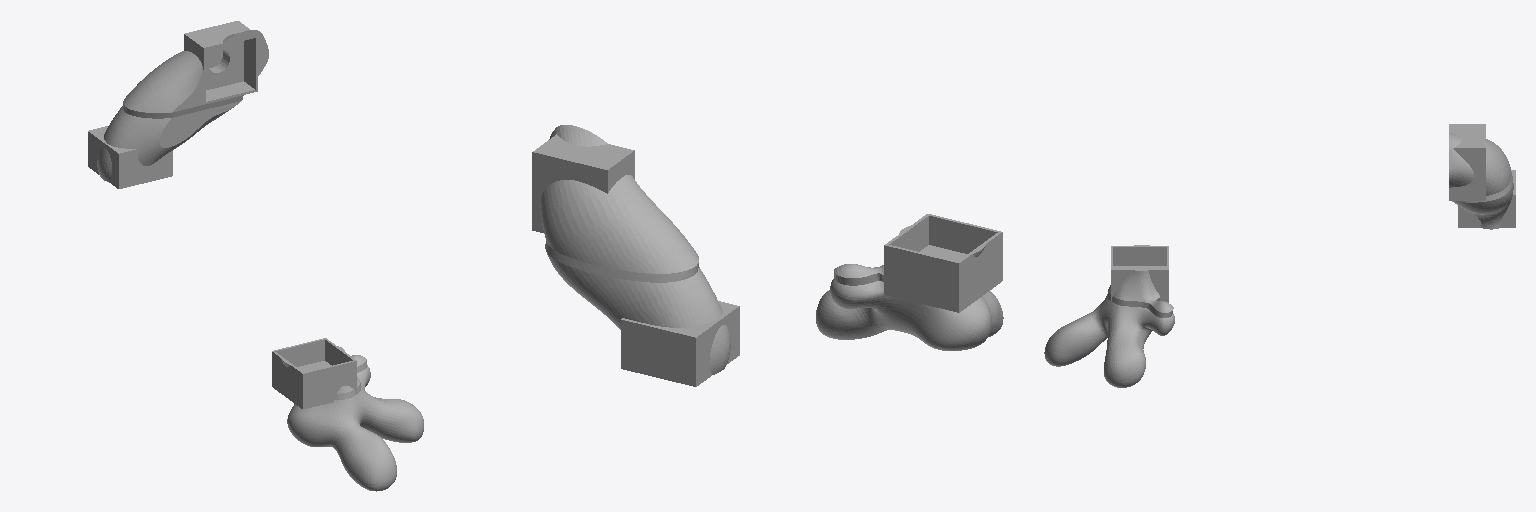
robot.urdf — FrogBot2_top-FrogBot2-z-1_bottom-FrogBot2-z-1:
<?xml version="1.0" ?>
<robot name="FrogBot2_top-FrogBot2-z-1_bottom-FrogBot2-z-1">

<material name="pla_5_percent_infill">
  <color rgba="0.700 0.700 0.700 1.000"/>
</material>

<link name="base_link">
  <inertial>
    <origin xyz="0 0 0" rpy="0 0 0"/>
    <mass value="1.3341577719423"/>
    <inertia ixx="0.0046797925109551535" iyy="0.011134478382956134" izz="0.010477176548232365" ixy="0.00012495104989682066" iyz="8.213962567094231e-05" ixz="-0.002474445058077273"/>
  </inertial>
  <visual>
    <origin xyz="0 0 0" rpy="0 0 0"/>
    <geometry>
      <mesh filename="simple_meshes/base_link.stl" scale="0.001 0.001 0.001"/>
    </geometry>
    <material name="pla_5_percent_infill"/>
  </visual>
  <collision>
    <origin xyz="0 0 0" rpy="0 0 0"/>
    <geometry>
      <mesh filename="simple_meshes/base_link.stl" scale="0.001 0.001 0.001"/>
    </geometry>
  </collision>
</link>

<link name="body_1_0_1">
  <inertial>
    <origin xyz="-0.053395 -0.09218 -0.023663" rpy="0 0 0"/>
    <mass value="0.05181755231490285"/>
    <inertia ixx="6.536903898336755e-05" iyy="6.881191573337948e-05" izz="1.7987144878947288e-05" ixy="-3.238768744947174e-07" iyz="4.588672547667545e-06" ixz="7.609197508524172e-06"/>
  </inertial>
  <visual>
    <origin xyz="-0.053395 -0.09218 -0.023663" rpy="0 0 0"/>
    <geometry>
      <mesh filename="simple_meshes/body_1_0_1.stl" scale="0.001 0.001 0.001"/>
    </geometry>
    <material name="pla_5_percent_infill"/>
  </visual>
  <collision>
    <origin xyz="-0.053395 -0.09218 -0.023663" rpy="0 0 0"/>
    <geometry>
      <mesh filename="simple_meshes/body_1_0_1.stl" scale="0.001 0.001 0.001"/>
    </geometry>
  </collision>
</link>

<link name="body_1_1_1">
  <inertial>
    <origin xyz="0.095032 -0.09218 0.005345" rpy="0 0 0"/>
    <mass value="0.0973469749886884"/>
    <inertia ixx="6.551925439724935e-05" iyy="0.00012844904834882482" izz="9.773491841719465e-05" ixy="4.534690595487095e-06" iyz="4.8709986384486e-06" ixz="-3.705166144969896e-05"/>
  </inertial>
  <visual>
    <origin xyz="0.095032 -0.09218 0.005345" rpy="0 0 0"/>
    <geometry>
      <mesh filename="simple_meshes/body_1_1_1.stl" scale="0.001 0.001 0.001"/>
    </geometry>
    <material name="pla_5_percent_infill"/>
  </visual>
  <collision>
    <origin xyz="0.095032 -0.09218 0.005345" rpy="0 0 0"/>
    <geometry>
      <mesh filename="simple_meshes/body_1_1_1.stl" scale="0.001 0.001 0.001"/>
    </geometry>
  </collision>
</link>

<link name="body_1_2_1">
  <inertial>
    <origin xyz="-0.041549 0.09218 -0.043945" rpy="0 0 0"/>
    <mass value="0.06101320727934863"/>
    <inertia ixx="0.00011607866512522349" iyy="0.00012146072575761399" izz="2.9115094758221582e-05" ixy="1.6624694795368288e-06" iyz="-1.6749839664340714e-05" ixz="1.8281677202385782e-05"/>
  </inertial>
  <visual>
    <origin xyz="-0.041549 0.09218 -0.043945" rpy="0 0 0"/>
    <geometry>
      <mesh filename="simple_meshes/body_1_2_1.stl" scale="0.001 0.001 0.001"/>
    </geometry>
    <material name="pla_5_percent_infill"/>
  </visual>
  <collision>
    <origin xyz="-0.041549 0.09218 -0.043945" rpy="0 0 0"/>
    <geometry>
      <mesh filename="simple_meshes/body_1_2_1.stl" scale="0.001 0.001 0.001"/>
    </geometry>
  </collision>
</link>

<link name="body_1_3_1">
  <inertial>
    <origin xyz="0.087142 0.09218 -0.003397" rpy="0 0 0"/>
    <mass value="0.0995550214806045"/>
    <inertia ixx="6.751085734349894e-05" iyy="0.00012894071686629324" izz="9.789317376424512e-05" ixy="-7.184023345715692e-06" iyz="-4.93085847283871e-06" ixz="-3.7240310838770375e-05"/>
  </inertial>
  <visual>
    <origin xyz="0.087142 0.09218 -0.003397" rpy="0 0 0"/>
    <geometry>
      <mesh filename="simple_meshes/body_1_3_1.stl" scale="0.001 0.001 0.001"/>
    </geometry>
    <material name="pla_5_percent_infill"/>
  </visual>
  <collision>
    <origin xyz="0.087142 0.09218 -0.003397" rpy="0 0 0"/>
    <geometry>
      <mesh filename="simple_meshes/body_1_3_1.stl" scale="0.001 0.001 0.001"/>
    </geometry>
  </collision>
</link>

<link name="body_2_0_1">
  <inertial>
    <origin xyz="-0.065654 -0.139685 0.099558" rpy="0 0 0"/>
    <mass value="0.10160186213074929"/>
    <inertia ixx="0.00011010002995882288" iyy="0.00012086272824978102" izz="0.00019059100130232104" ixy="-1.1444704909734961e-05" iyz="6.2105593020074686e-06" ixz="5.1307553116273705e-06"/>
  </inertial>
  <visual>
    <origin xyz="-0.065654 -0.139685 0.099558" rpy="0 0 0"/>
    <geometry>
      <mesh filename="simple_meshes/body_2_0_1.stl" scale="0.001 0.001 0.001"/>
    </geometry>
    <material name="pla_5_percent_infill"/>
  </visual>
  <collision>
    <origin xyz="-0.065654 -0.139685 0.099558" rpy="0 0 0"/>
    <geometry>
      <mesh filename="simple_meshes/body_2_0_1.stl" scale="0.001 0.001 0.001"/>
    </geometry>
  </collision>
</link>

<link name="body_2_1_1">
  <inertial>
    <origin xyz="0.15751 -0.143533 0.099558" rpy="0 0 0"/>
    <mass value="0.08134222741558278"/>
    <inertia ixx="6.452271090579519e-05" iyy="7.97874956739034e-05" izz="9.513706690628251e-05" ixy="-2.973113913482678e-09" iyz="1.75892580950277e-05" ixz="9.697713243010577e-06"/>
  </inertial>
  <visual>
    <origin xyz="0.15751 -0.143533 0.099558" rpy="0 0 0"/>
    <geometry>
      <mesh filename="simple_meshes/body_2_1_1.stl" scale="0.001 0.001 0.001"/>
    </geometry>
    <material name="pla_5_percent_infill"/>
  </visual>
  <collision>
    <origin xyz="0.15751 -0.143533 0.099558" rpy="0 0 0"/>
    <geometry>
      <mesh filename="simple_meshes/body_2_1_1.stl" scale="0.001 0.001 0.001"/>
    </geometry>
  </collision>
</link>

<link name="body_2_2_1">
  <inertial>
    <origin xyz="-0.061161 0.145934 0.099558" rpy="0 0 0"/>
    <mass value="0.09823051945494099"/>
    <inertia ixx="0.00010874230007478555" iyy="0.00011714517474443846" izz="0.0001886891247560021" ixy="1.1791432311795231e-05" iyz="-3.0993597124055923e-06" ixz="2.0828268555066285e-06"/>
  </inertial>
  <visual>
    <origin xyz="-0.061161 0.145934 0.099558" rpy="0 0 0"/>
    <geometry>
      <mesh filename="simple_meshes/body_2_2_1.stl" scale="0.001 0.001 0.001"/>
    </geometry>
    <material name="pla_5_percent_infill"/>
  </visual>
  <collision>
    <origin xyz="-0.061161 0.145934 0.099558" rpy="0 0 0"/>
    <geometry>
      <mesh filename="simple_meshes/body_2_2_1.stl" scale="0.001 0.001 0.001"/>
    </geometry>
  </collision>
</link>

<link name="body_2_3_1">
  <inertial>
    <origin xyz="0.160089 0.145768 0.099558" rpy="0 0 0"/>
    <mass value="0.0771265452073955"/>
    <inertia ixx="6.814296363398704e-05" iyy="7.643866995249958e-05" izz="9.081864836451257e-05" ixy="-1.4151616302634801e-06" iyz="-2.0018538142617826e-05" ixz="1.2313829405951162e-05"/>
  </inertial>
  <visual>
    <origin xyz="0.160089 0.145768 0.099558" rpy="0 0 0"/>
    <geometry>
      <mesh filename="simple_meshes/body_2_3_1.stl" scale="0.001 0.001 0.001"/>
    </geometry>
    <material name="pla_5_percent_infill"/>
  </visual>
  <collision>
    <origin xyz="0.160089 0.145768 0.099558" rpy="0 0 0"/>
    <geometry>
      <mesh filename="simple_meshes/body_2_3_1.stl" scale="0.001 0.001 0.001"/>
    </geometry>
  </collision>
</link>

<joint name="joint_1_0" type="revolute">
  <origin xyz="0.053395 0.09218 0.023663" rpy="0 0 0"/>
  <parent link="base_link"/>
  <child link="body_1_0_1"/>
  <axis xyz="0.0 1.0 0.0"/>
  <limit upper="1.2" lower="-1.2" effort="3.8" velocity="5.4"/>
</joint>
<transmission name="joint_1_0_tran">
  <type>transmission_interface/SimpleTransmission</type>
  <joint name="joint_1_0">
    <hardwareInterface>PositionJointInterface</hardwareInterface>
  </joint>
  <actuator name="joint_1_0_actr">
    <hardwareInterface>PositionJointInterface</hardwareInterface>
    <mechanicalReduction>1</mechanicalReduction>
  </actuator>
</transmission>

<joint name="joint_1_1" type="revolute">
  <origin xyz="-0.095032 0.09218 -0.005345" rpy="0 0 0"/>
  <parent link="base_link"/>
  <child link="body_1_1_1"/>
  <axis xyz="0.0 1.0 0.0"/>
  <limit upper="1.2" lower="-1.2" effort="3.8" velocity="5.4"/>
</joint>
<transmission name="joint_1_1_tran">
  <type>transmission_interface/SimpleTransmission</type>
  <joint name="joint_1_1">
    <hardwareInterface>PositionJointInterface</hardwareInterface>
  </joint>
  <actuator name="joint_1_1_actr">
    <hardwareInterface>PositionJointInterface</hardwareInterface>
    <mechanicalReduction>1</mechanicalReduction>
  </actuator>
</transmission>

<joint name="joint_1_2" type="revolute">
  <origin xyz="0.041549 -0.09218 0.043945" rpy="0 0 0"/>
  <parent link="base_link"/>
  <child link="body_1_2_1"/>
  <axis xyz="0.0 1.0 0.0"/>
  <limit upper="1.2" lower="-1.2" effort="3.8" velocity="5.4"/>
</joint>
<transmission name="joint_1_2_tran">
  <type>transmission_interface/SimpleTransmission</type>
  <joint name="joint_1_2">
    <hardwareInterface>PositionJointInterface</hardwareInterface>
  </joint>
  <actuator name="joint_1_2_actr">
    <hardwareInterface>PositionJointInterface</hardwareInterface>
    <mechanicalReduction>1</mechanicalReduction>
  </actuator>
</transmission>

<joint name="joint_1_3" type="revolute">
  <origin xyz="-0.087142 -0.09218 0.003397" rpy="0 0 0"/>
  <parent link="base_link"/>
  <child link="body_1_3_1"/>
  <axis xyz="0.0 1.0 0.0"/>
  <limit upper="1.2" lower="-1.2" effort="3.8" velocity="5.4"/>
</joint>
<transmission name="joint_1_3_tran">
  <type>transmission_interface/SimpleTransmission</type>
  <joint name="joint_1_3">
    <hardwareInterface>PositionJointInterface</hardwareInterface>
  </joint>
  <actuator name="joint_1_3_actr">
    <hardwareInterface>PositionJointInterface</hardwareInterface>
    <mechanicalReduction>1</mechanicalReduction>
  </actuator>
</transmission>

<joint name="joint_2_0" type="revolute">
  <origin xyz="0.012259 0.047505 -0.123221" rpy="0 0 0"/>
  <parent link="body_1_0_1"/>
  <child link="body_2_0_1"/>
  <axis xyz="0.0 0.0 1.0"/>
  <limit upper="1.2" lower="-1.2" effort="3.8" velocity="5.4"/>
</joint>
<transmission name="joint_2_0_tran">
  <type>transmission_interface/SimpleTransmission</type>
  <joint name="joint_2_0">
    <hardwareInterface>PositionJointInterface</hardwareInterface>
  </joint>
  <actuator name="joint_2_0_actr">
    <hardwareInterface>PositionJointInterface</hardwareInterface>
    <mechanicalReduction>1</mechanicalReduction>
  </actuator>
</transmission>

<joint name="joint_2_1" type="revolute">
  <origin xyz="-0.062478 0.051353 -0.094213" rpy="0 0 0"/>
  <parent link="body_1_1_1"/>
  <child link="body_2_1_1"/>
  <axis xyz="0.0 0.0 1.0"/>
  <limit upper="1.2" lower="-1.2" effort="3.8" velocity="5.4"/>
</joint>
<transmission name="joint_2_1_tran">
  <type>transmission_interface/SimpleTransmission</type>
  <joint name="joint_2_1">
    <hardwareInterface>PositionJointInterface</hardwareInterface>
  </joint>
  <actuator name="joint_2_1_actr">
    <hardwareInterface>PositionJointInterface</hardwareInterface>
    <mechanicalReduction>1</mechanicalReduction>
  </actuator>
</transmission>

<joint name="joint_2_2" type="revolute">
  <origin xyz="0.019612 -0.053754 -0.143503" rpy="0 0 0"/>
  <parent link="body_1_2_1"/>
  <child link="body_2_2_1"/>
  <axis xyz="0.0 0.0 1.0"/>
  <limit upper="1.2" lower="-1.2" effort="3.8" velocity="5.4"/>
</joint>
<transmission name="joint_2_2_tran">
  <type>transmission_interface/SimpleTransmission</type>
  <joint name="joint_2_2">
    <hardwareInterface>PositionJointInterface</hardwareInterface>
  </joint>
  <actuator name="joint_2_2_actr">
    <hardwareInterface>PositionJointInterface</hardwareInterface>
    <mechanicalReduction>1</mechanicalReduction>
  </actuator>
</transmission>

<joint name="joint_2_3" type="revolute">
  <origin xyz="-0.072947 -0.053588 -0.102955" rpy="0 0 0"/>
  <parent link="body_1_3_1"/>
  <child link="body_2_3_1"/>
  <axis xyz="0.0 0.0 1.0"/>
  <limit upper="1.2" lower="-1.2" effort="3.8" velocity="5.4"/>
</joint>
<transmission name="joint_2_3_tran">
  <type>transmission_interface/SimpleTransmission</type>
  <joint name="joint_2_3">
    <hardwareInterface>PositionJointInterface</hardwareInterface>
  </joint>
  <actuator name="joint_2_3_actr">
    <hardwareInterface>PositionJointInterface</hardwareInterface>
    <mechanicalReduction>1</mechanicalReduction>
  </actuator>
</transmission>

</robot>

--- Render facts (derived) ---
3 views of the same robot in one strip: view 1: azimuth 30°, elevation 25°; view 2: azimuth 150°, elevation 25°; view 3: azimuth 270°, elevation 25° (orthographic).
Model FrogBot2_top-FrogBot2-z-1_bottom-FrogBot2-z-1 with 9 links and 8 joints (8 revolute), rooted at base_link, posed every joint at zero.
Links seen in each view (by area): view 1: body_1_1_1, body_2_3_1; view 2: body_1_1_1, body_2_3_1; view 3: body_2_3_1, body_1_1_1.
Link boxes in pixels (bbox=[...]): body_1_1_1: bbox=[88, 21, 268, 188]; body_2_3_1: bbox=[272, 338, 423, 491]; body_1_1_1: bbox=[532, 125, 739, 386]; body_2_3_1: bbox=[816, 214, 1003, 350]; body_2_3_1: bbox=[1044, 245, 1174, 387]; body_1_1_1: bbox=[1449, 124, 1515, 229].
Bounding box of the posed robot: 0.1343 × 0.3932 × 0.2426 m (x, y, z).
2 mesh visuals loaded from 9 distinct referenced files (2 binary STL); not drawn: 7 (reference not matched to a file when rendering).